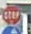stop: (1, 4, 22, 24)
